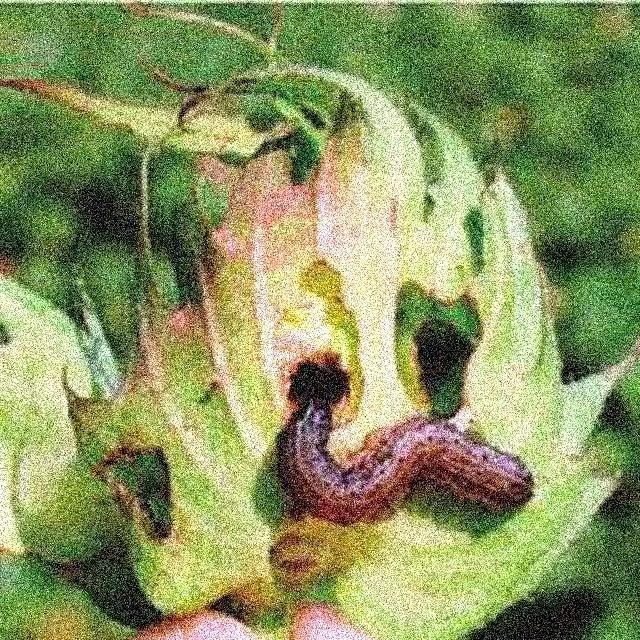gusano_cogollero: (282, 402, 535, 522)
